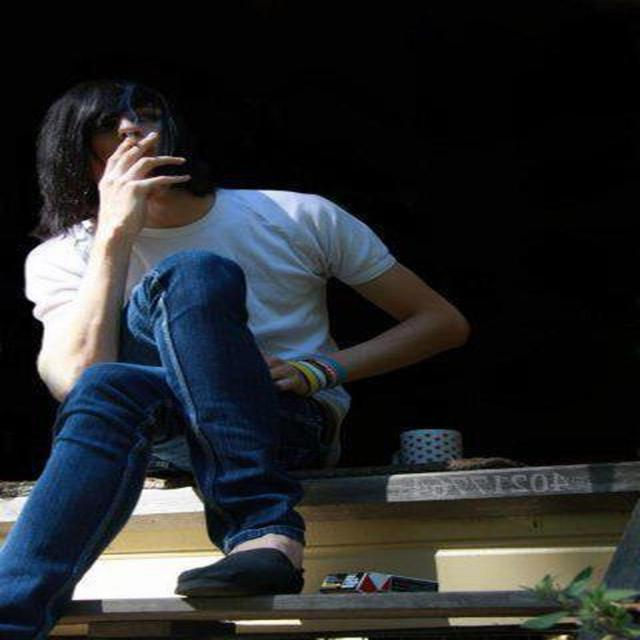smoking: (56, 84, 215, 226)
